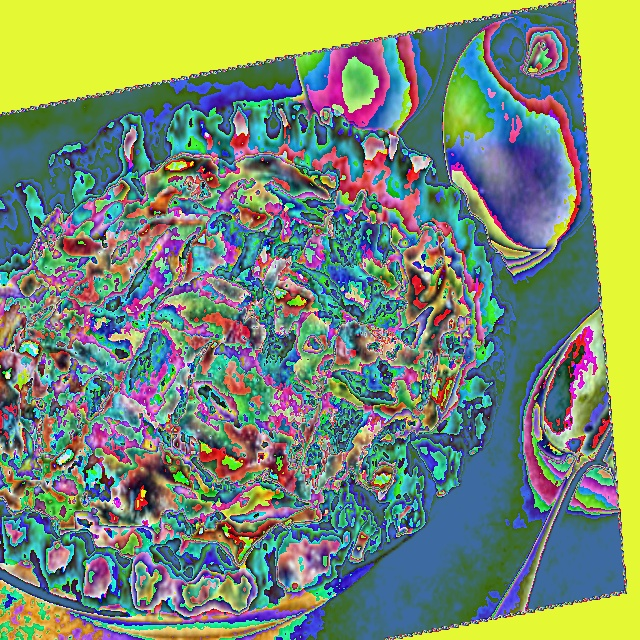background: (0, 10, 593, 623)
